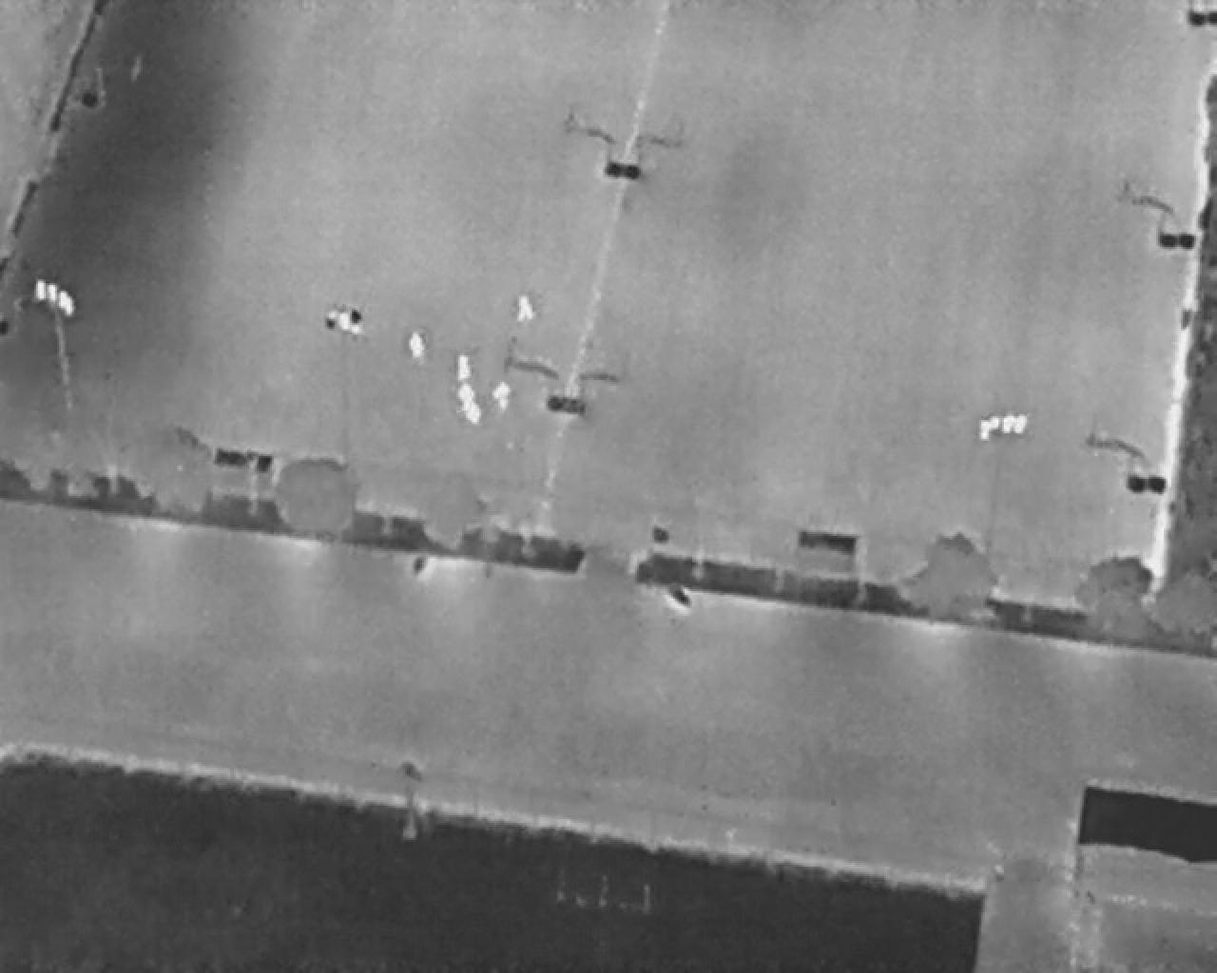person: (408, 328, 427, 366), (493, 379, 511, 413), (518, 292, 535, 324), (459, 379, 476, 410), (465, 398, 484, 425), (457, 353, 473, 383)
